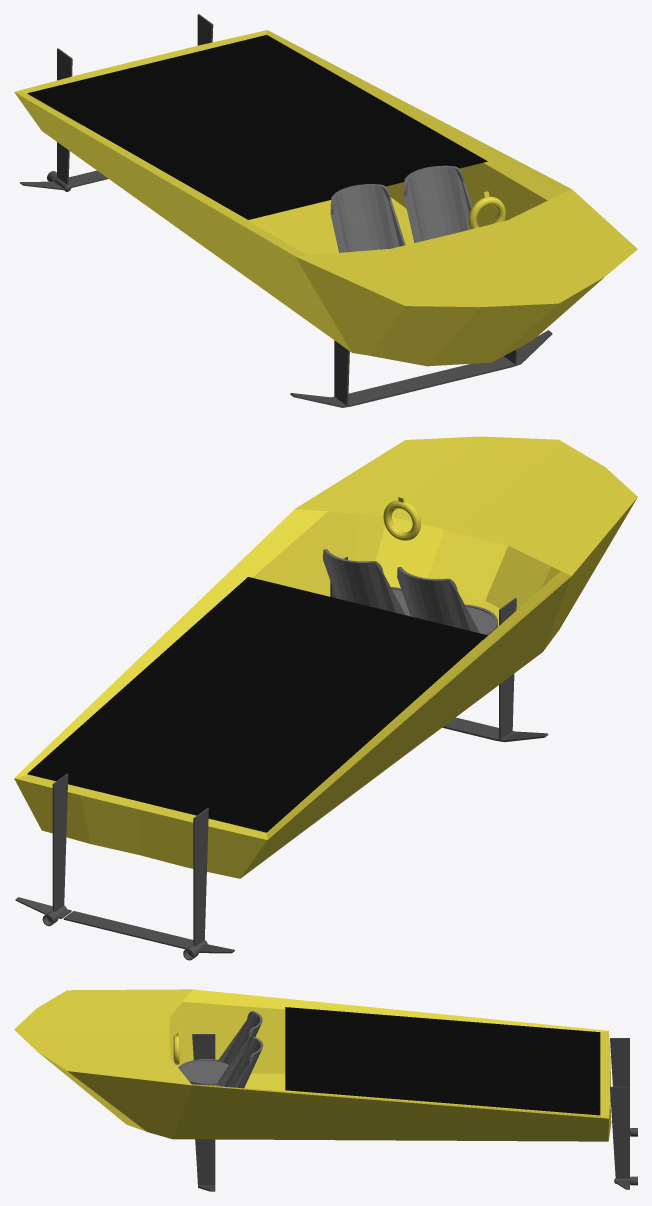
The model's file is boat_222.fbx.
3 renders of one model, top to bottom at view 1: azimuth 30°, elevation 25°; view 2: azimuth 150°, elevation 25°; view 3: azimuth 270°, elevation 25°, orthographic. The views are drawn at different scales.
Parts seen in each view (by area): view 1: hull, front_foil, front_foil_support, right_engine; view 2: hull, front_foil_support, rear_foil, left_rudder, left_engine, right_rudder, right_engine; view 3: hull, front_foil_support, left_rudder, left_engine, right_rudder, right_engine.
Part boxes in pixels (<box>): hull: <box>14,30,637,366</box>; front_foil: <box>348,360,506,404</box>; front_foil_support: <box>290,330,552,407</box>; right_engine: <box>20,48,73,191</box>; hull: <box>14,436,637,878</box>; front_foil_support: <box>330,557,548,742</box>; rear_foil: <box>63,911,193,949</box>; left_rudder: <box>52,796,67,891</box>; left_engine: <box>15,773,71,926</box>; right_rudder: <box>193,830,208,925</box>; right_engine: <box>183,808,234,960</box>; hull: <box>14,989,611,1141</box>; front_foil_support: <box>192,1034,215,1191</box>; left_rudder: <box>611,1102,629,1163</box>; left_engine: <box>610,1086,637,1189</box>; right_rudder: <box>611,1053,629,1086</box>; right_engine: <box>610,1038,637,1136</box>.
Size of the model in its own units: 184 by 127 by 505.
